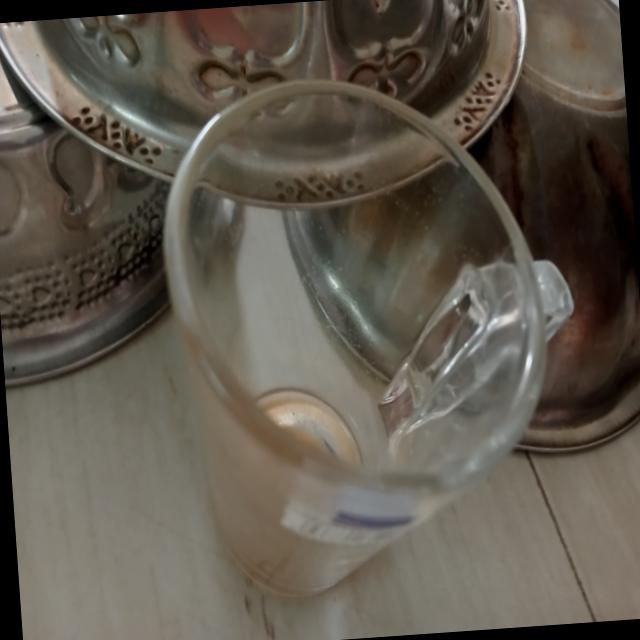glass-VX4N: (152, 68, 414, 523), (386, 133, 386, 135)
